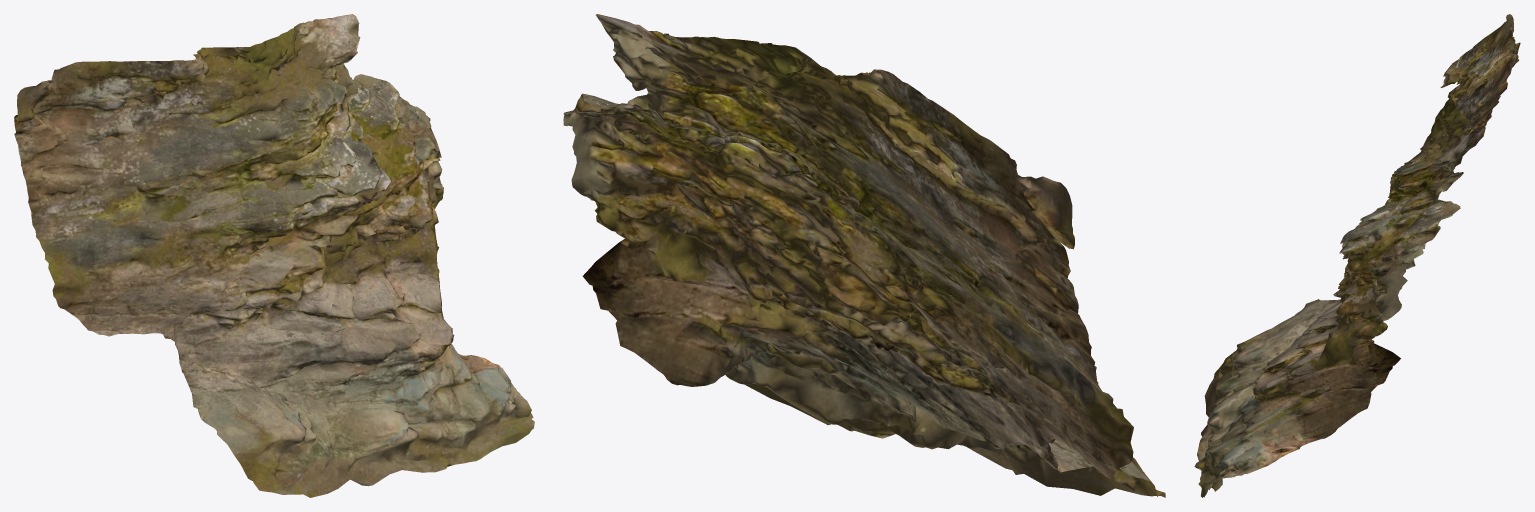
Rendered from rock_face_02.glb.
3 renders of one model, left to right at view 1: azimuth 30°, elevation 25°; view 2: azimuth 150°, elevation 25°; view 3: azimuth 270°, elevation 25°, orthographic. The views are drawn at different scales.
Visible parts, largest first — view 1: rock_face_02; view 2: rock_face_02; view 3: rock_face_02.
Part boxes in pixels (left/top/right/bottom): rock_face_02: left=14, top=14, right=534, bottom=497; rock_face_02: left=563, top=14, right=1165, bottom=497; rock_face_02: left=1194, top=14, right=1520, bottom=497.
Size of the model in its own units: 2.71 by 2.47 by 2.13.
Materials: 1 (1 with a texture image).
